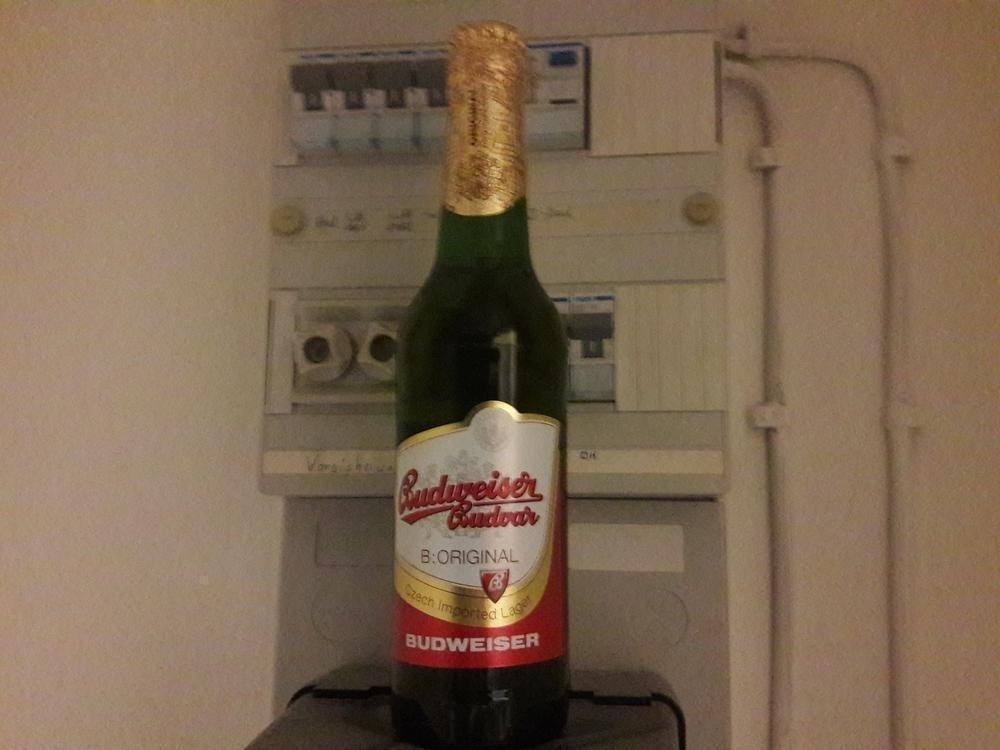bottle-glass: (392, 20, 571, 747)
